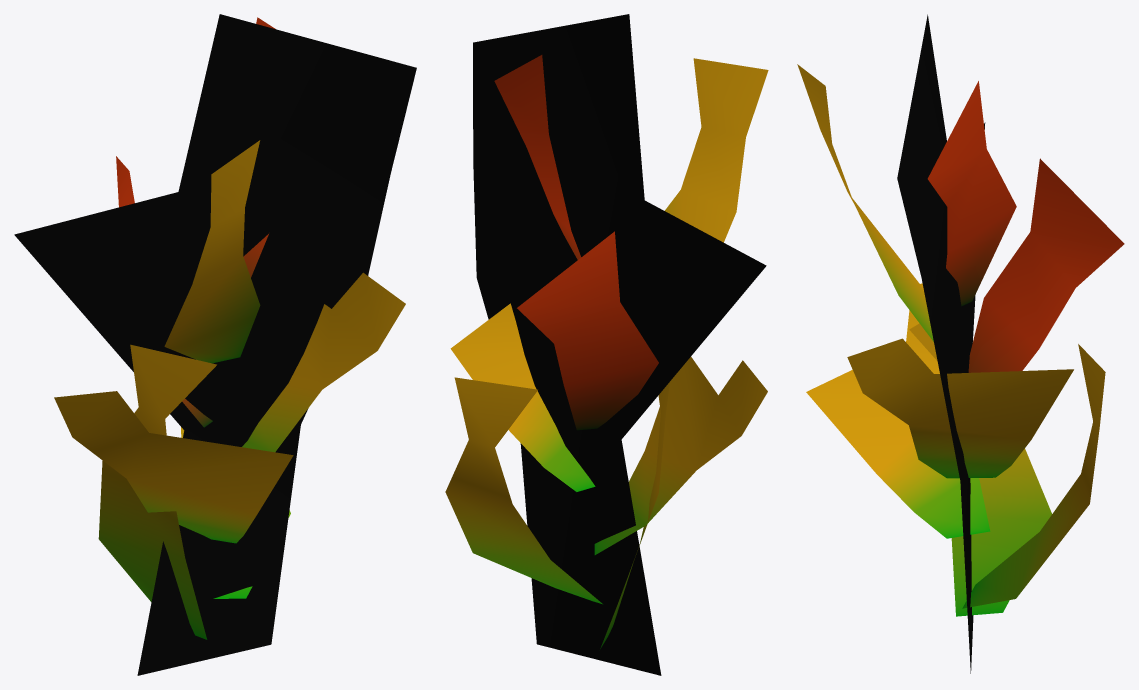
File: Var4Hi60.fbx
3 views of the same model, side by side, from view 1: azimuth 30°, elevation 25°; view 2: azimuth 150°, elevation 25°; view 3: azimuth 270°, elevation 25° (orthographic). The views are drawn at different scales.
Parts seen in each view (by area): view 1: bend1; view 2: bend1; view 3: bend1.
Boxes of the visible parts, left/top/right/bottom form: bend1: left=14, top=14, right=416, bottom=675; bend1: left=445, top=14, right=768, bottom=675; bend1: left=797, top=14, right=1124, bottom=673.
Size of the model in its own units: 1.3 by 2.32 by 1.1.
